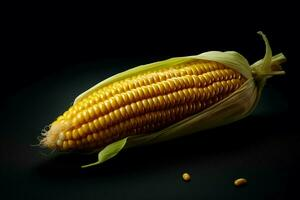corn: (29, 31, 294, 173)
